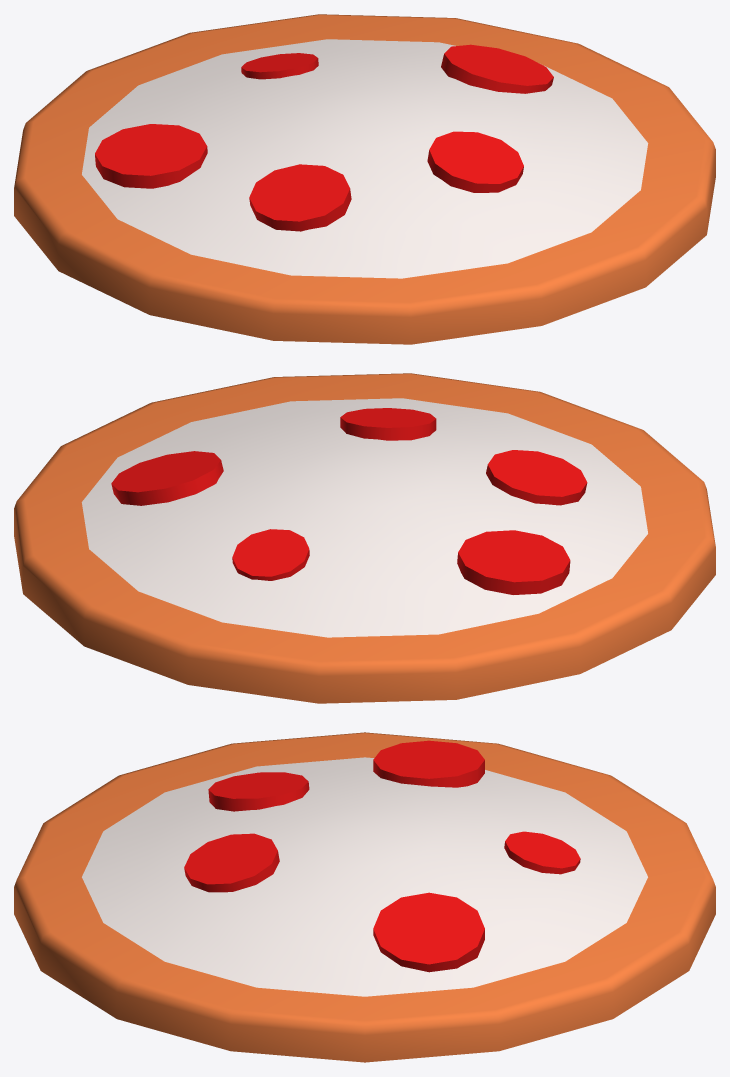
The model's file is pizza.FBX.
The picture shows the model from 3 angles, top to bottom: view 1: azimuth 30°, elevation 25°; view 2: azimuth 150°, elevation 25°; view 3: azimuth 270°, elevation 25°; orthographic projection.
Parts seen in each view (by area): view 1: Object237; view 2: Object237; view 3: Object237.
Part boxes in pixels (box(x1,y1,x2,y2)): Object237: box(14, 14, 715, 344); Object237: box(14, 373, 715, 703); Object237: box(14, 732, 715, 1062).
Size of the model in its own units: 1.9 by 0.2581 by 1.9.
